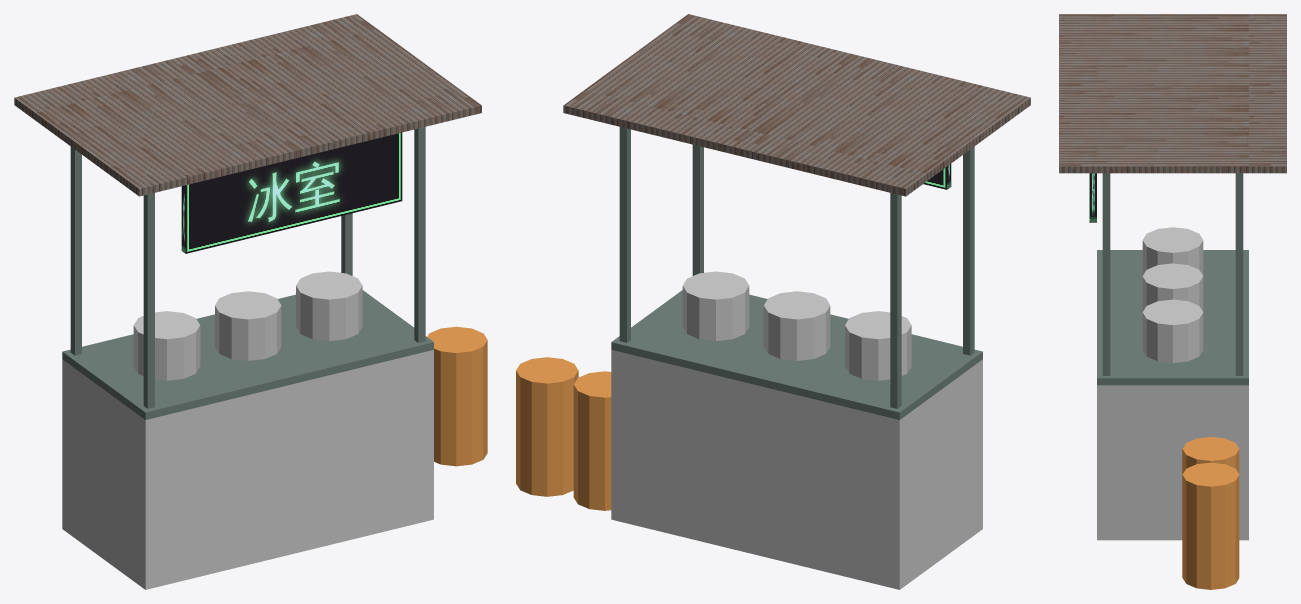
File: hawker_stall.glb
3 renders of one model, left to right at view 1: azimuth 30°, elevation 25°; view 2: azimuth 150°, elevation 25°; view 3: azimuth 270°, elevation 25°, orthographic. The views are drawn at different scales.
Visible parts, largest first — view 1: hawker_stall; view 2: hawker_stall; view 3: hawker_stall.
Boxes of the visible parts, bbox=[...] form: hawker_stall: bbox=[14, 14, 487, 589]; hawker_stall: bbox=[516, 14, 1030, 589]; hawker_stall: bbox=[1059, 14, 1286, 589].
Size of the model in its own units: 2.37 by 2.24 by 1.2.
Materials: 7 (2 with a texture image).
